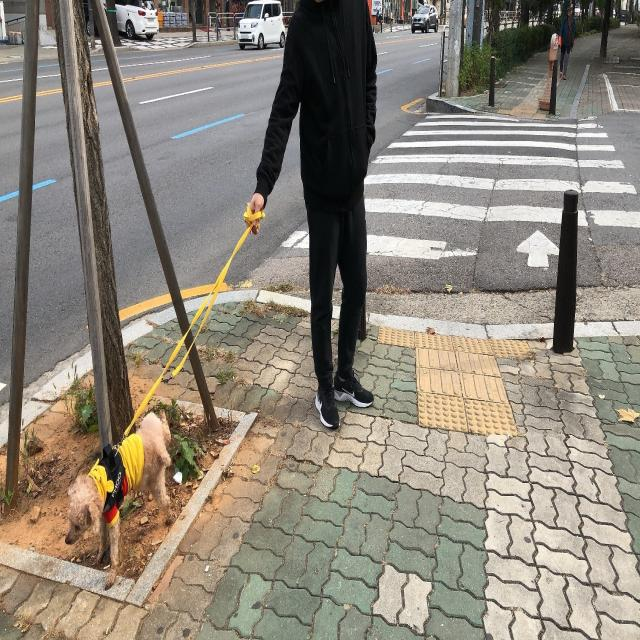횡단보도: (364, 111, 640, 262)
